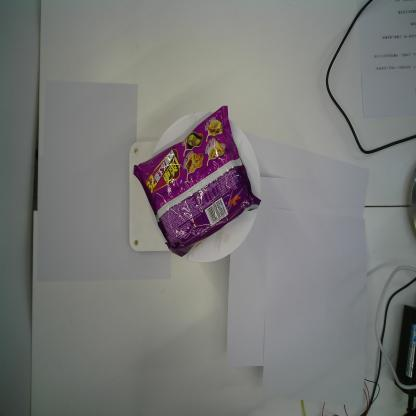Instant Noodles: (132, 105, 262, 258)
